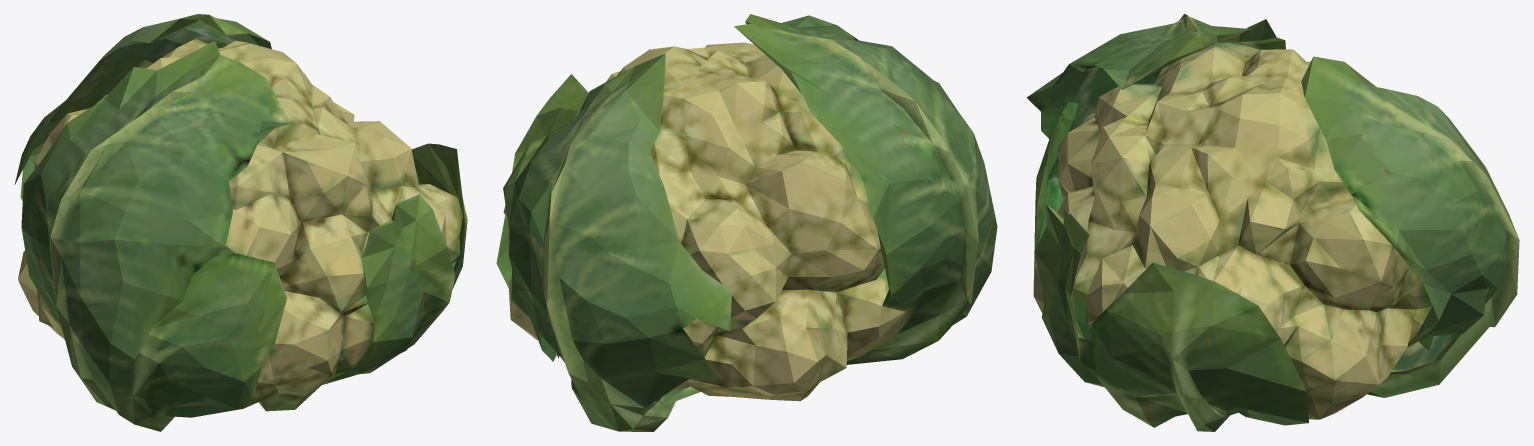
The model's file is P_Huacai_03.obj.
3 renders of one model, left to right at view 1: azimuth 30°, elevation 25°; view 2: azimuth 150°, elevation 25°; view 3: azimuth 270°, elevation 25°, orthographic. The views are drawn at different scales.
Bounding box in the file's own units: 0.7233 × 0.5683 × 0.7281.
Materials: 1 (1 with a texture image).
